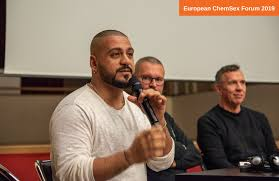middle_eastern_male: (98, 32, 139, 85)
